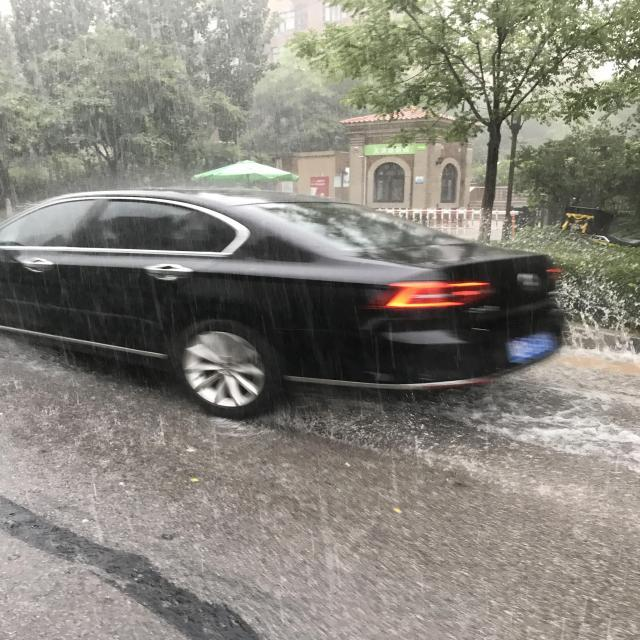car: (182, 37, 418, 640)
